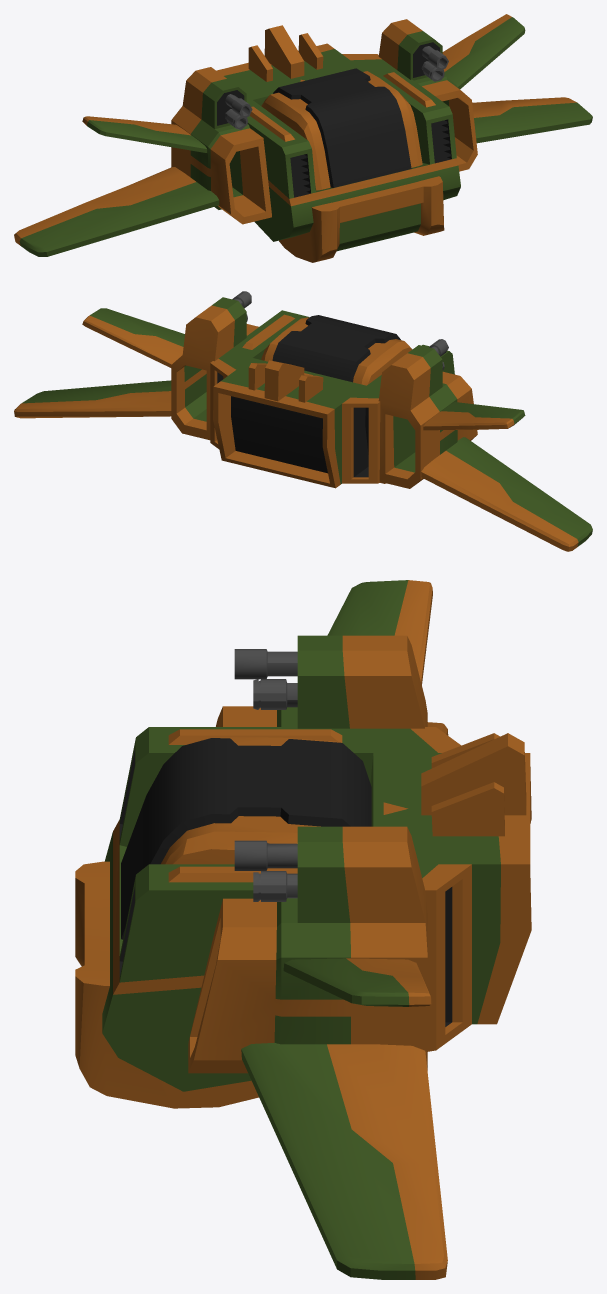
Rendered from ship-frog.glb.
3 views of the same model, one above another, from view 1: azimuth 30°, elevation 25°; view 2: azimuth 150°, elevation 25°; view 3: azimuth 270°, elevation 25° (orthographic). The views are drawn at different scales.
Parts seen in each view (by area): view 1: Spaceship_FinnTheFrog; view 2: Spaceship_FinnTheFrog; view 3: Spaceship_FinnTheFrog.
Part boxes in pixels (bbox=[...]): Spaceship_FinnTheFrog: bbox=[14, 14, 592, 262]; Spaceship_FinnTheFrog: bbox=[14, 291, 592, 551]; Spaceship_FinnTheFrog: bbox=[75, 580, 531, 1279].
Bounding box in the file's own units: 11.62 × 3.06 × 4.11.
